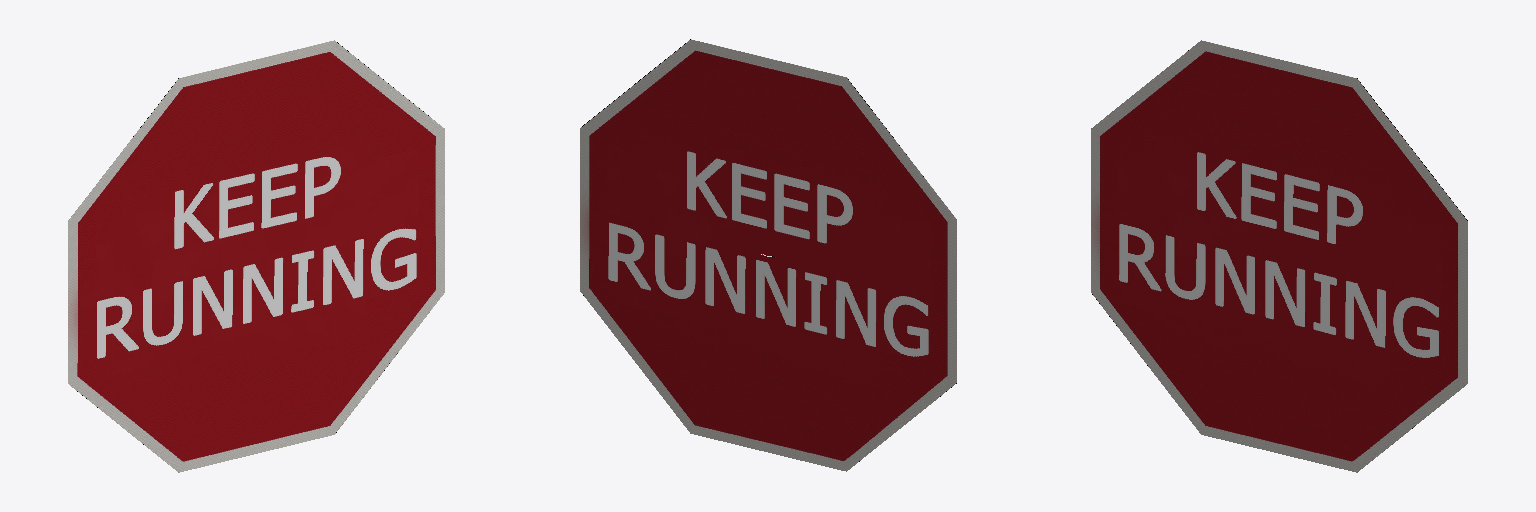
3 renders of one model, left to right at view 1: azimuth 30°, elevation 25°; view 2: azimuth 150°, elevation 25°; view 3: azimuth 330°, elevation 25°, orthographic.
Size of the model in its own units: 3.64 by 3.64 by 0.0276.
1 materials, 1 textured.